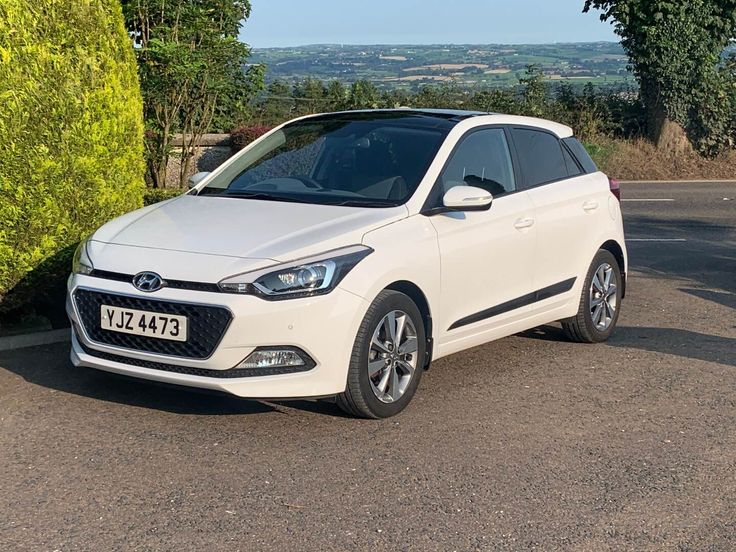car: (32, 96, 647, 414)
